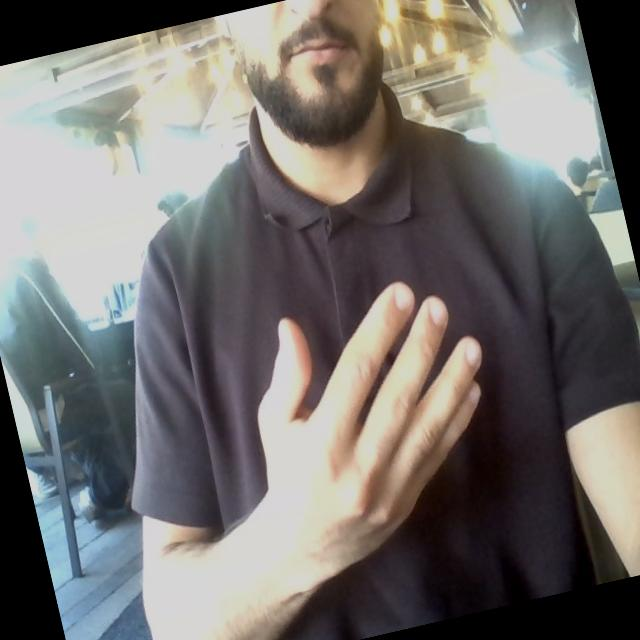Hand: (258, 283, 480, 576)
